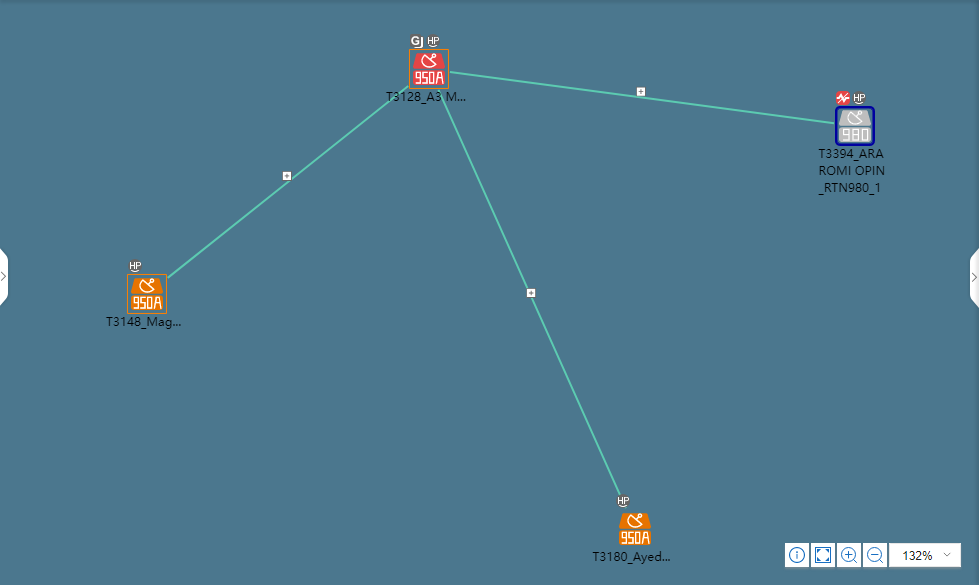Link_Blue: (437, 97, 626, 502), (168, 88, 401, 274), (450, 69, 840, 129)
RTN_Gray: (835, 106, 877, 147)
RTN_Orange: (132, 277, 167, 312), (621, 516, 650, 551)
RTN_Red: (413, 51, 447, 86)
